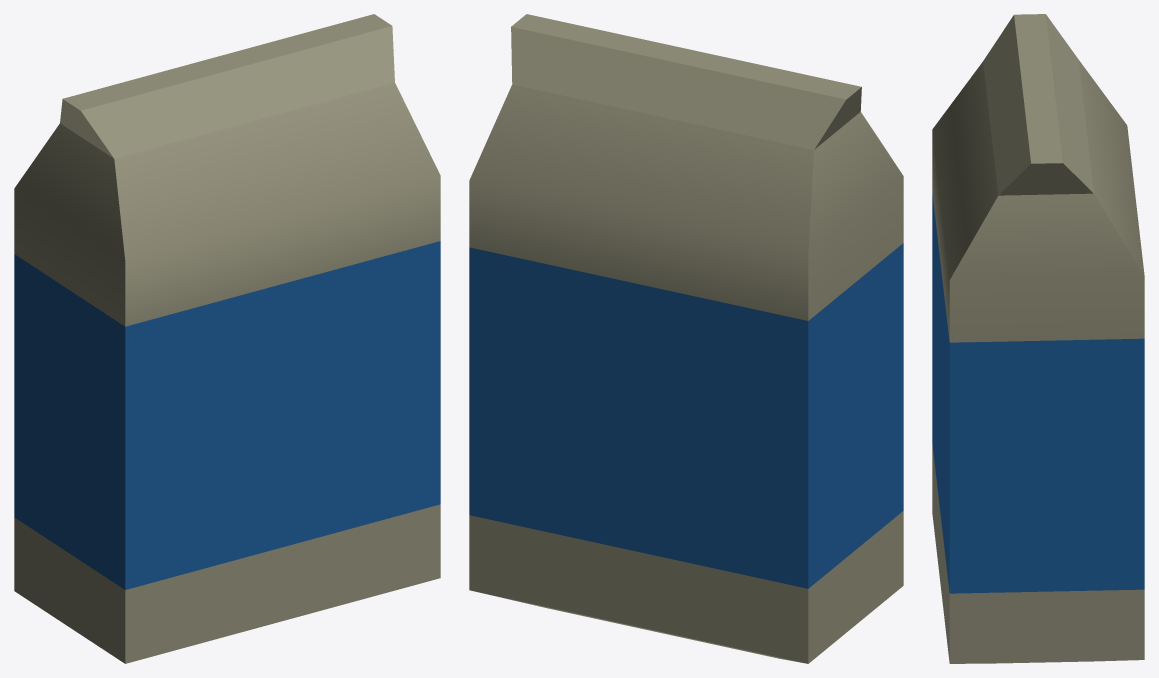
Rendered from sugar_blue.fbx.
The picture shows the model from 3 angles, left to right: view 1: azimuth 30°, elevation 25°; view 2: azimuth 150°, elevation 25°; view 3: azimuth 270°, elevation 25°; orthographic projection. The views are drawn at different scales.
Parts seen in each view (by area): view 1: sugar_blue; view 2: sugar_blue; view 3: sugar_blue.
Part boxes in pixels (bbox=[...]): sugar_blue: bbox=[14, 14, 440, 663]; sugar_blue: bbox=[469, 14, 903, 663]; sugar_blue: bbox=[932, 14, 1144, 663].
Bounding box in the file's own units: 0.0964 × 0.1515 × 0.0559.
